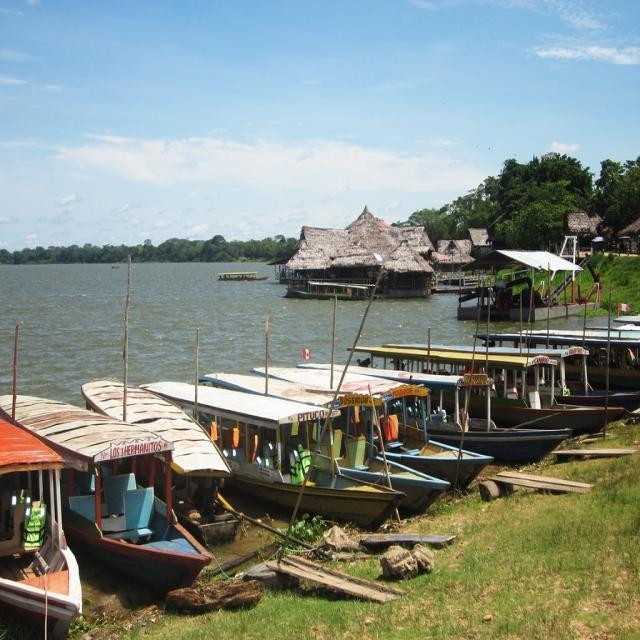Hyacinth: (286, 520, 344, 546)
boat: (160, 371, 430, 526), (85, 372, 249, 528), (293, 274, 379, 312), (216, 266, 272, 284)
